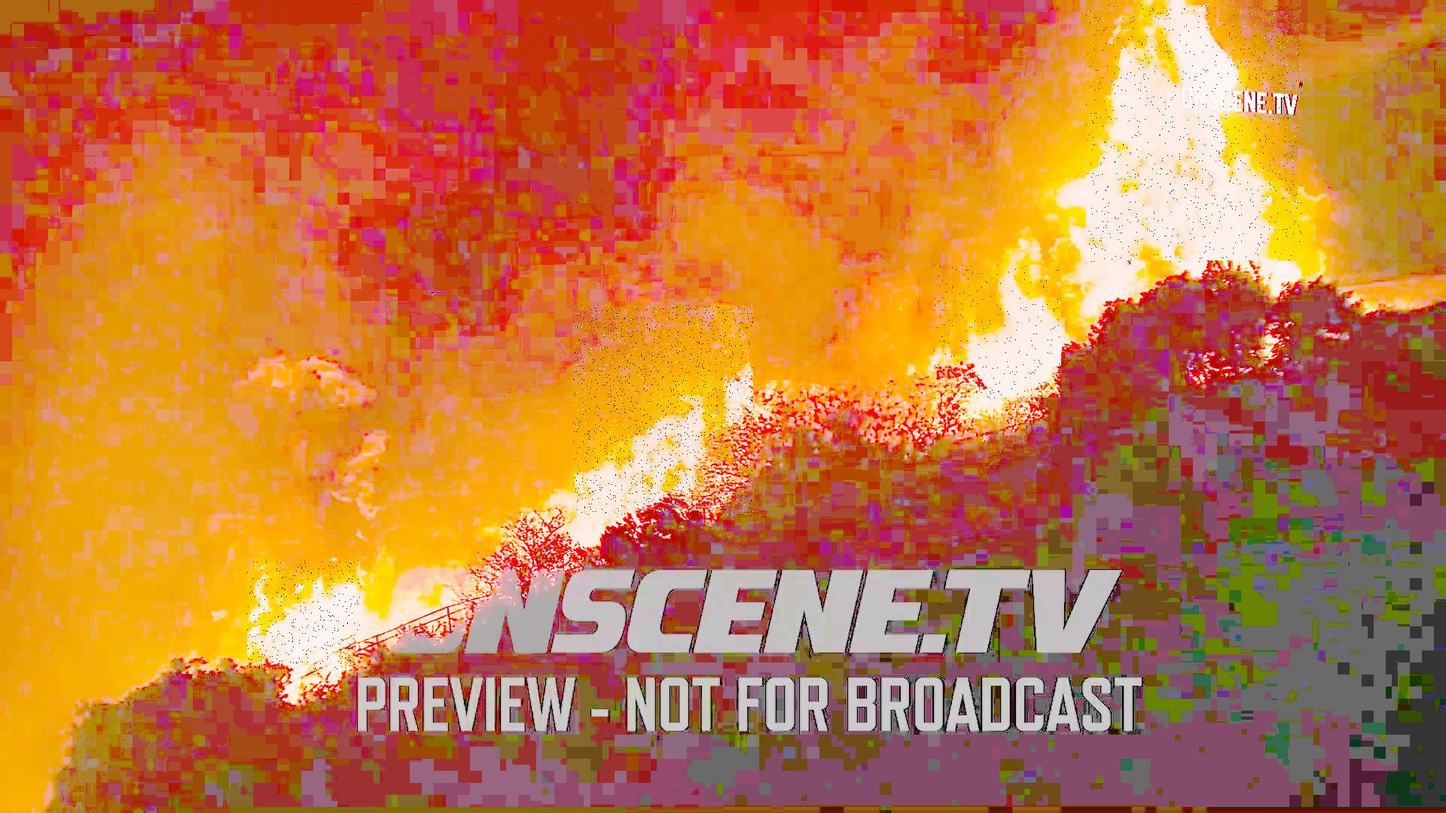fire: (1087, 6, 1302, 263), (573, 306, 753, 516), (934, 266, 1061, 400), (247, 561, 361, 670)
